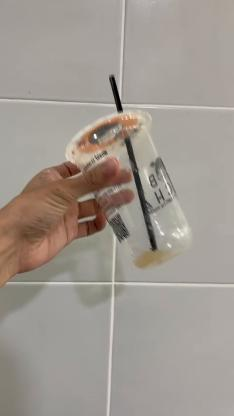Plastic Cup: (66, 111, 192, 271)
